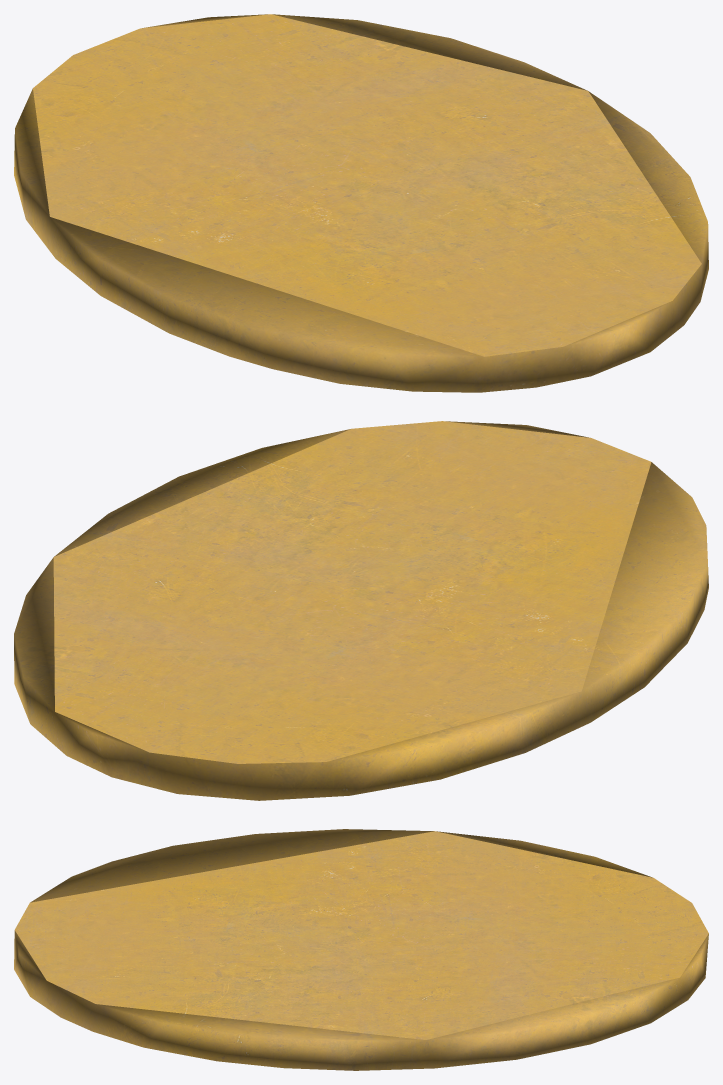
Rendered from mirror.glb.
The picture shows the model from 3 angles, top to bottom: view 1: azimuth 30°, elevation 25°; view 2: azimuth 150°, elevation 25°; view 3: azimuth 270°, elevation 25°; orthographic projection. The views are drawn at different scales.
Parts seen in each view (by area): view 1: Object_4; view 2: Object_4; view 3: Object_4.
Boxes of the visible parts, x1=… form: Object_4: x1=14, y1=14, x2=708, y2=392; Object_4: x1=14, y1=421, x2=708, y2=800; Object_4: x1=14, y1=829, x2=708, y2=1070.
Size of what is drawn, in the model's own units: 0.6298 by 0.0401 by 0.8675.
Materials: 4 (2 with a texture image).
